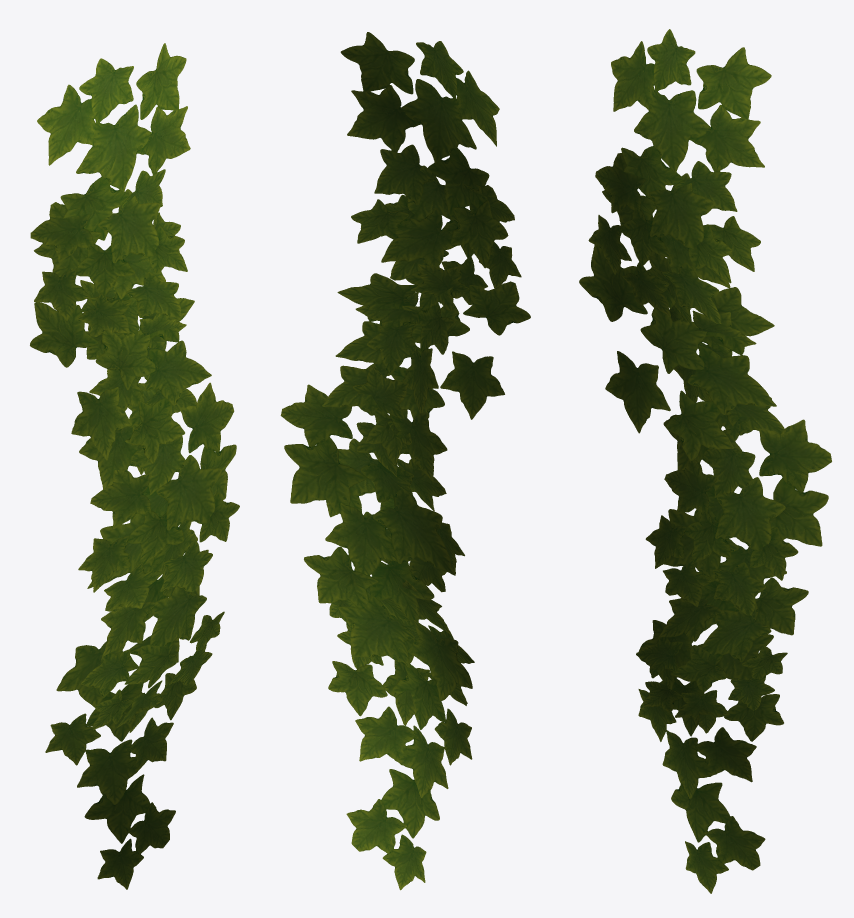
The model's file is MSH_fwOF_Ivy_Narrow_04.fbx.
3 renders of one model, left to right at view 1: azimuth 30°, elevation 25°; view 2: azimuth 150°, elevation 25°; view 3: azimuth 330°, elevation 25°, orthographic. The views are drawn at different scales.
Visible parts, largest first — view 1: MSH_fwOF_Ivy_Narrow_04_LOD0; view 2: MSH_fwOF_Ivy_Narrow_04_LOD0; view 3: MSH_fwOF_Ivy_Narrow_04_LOD0.
Boxes of the visible parts, box(x1,y1,x2,y2) form: MSH_fwOF_Ivy_Narrow_04_LOD0: box(30, 43, 239, 889); MSH_fwOF_Ivy_Narrow_04_LOD0: box(280, 32, 530, 890); MSH_fwOF_Ivy_Narrow_04_LOD0: box(579, 29, 831, 893).
Size of what is drawn, in the model's own units: 0.4946 by 1.66 by 0.1202.
